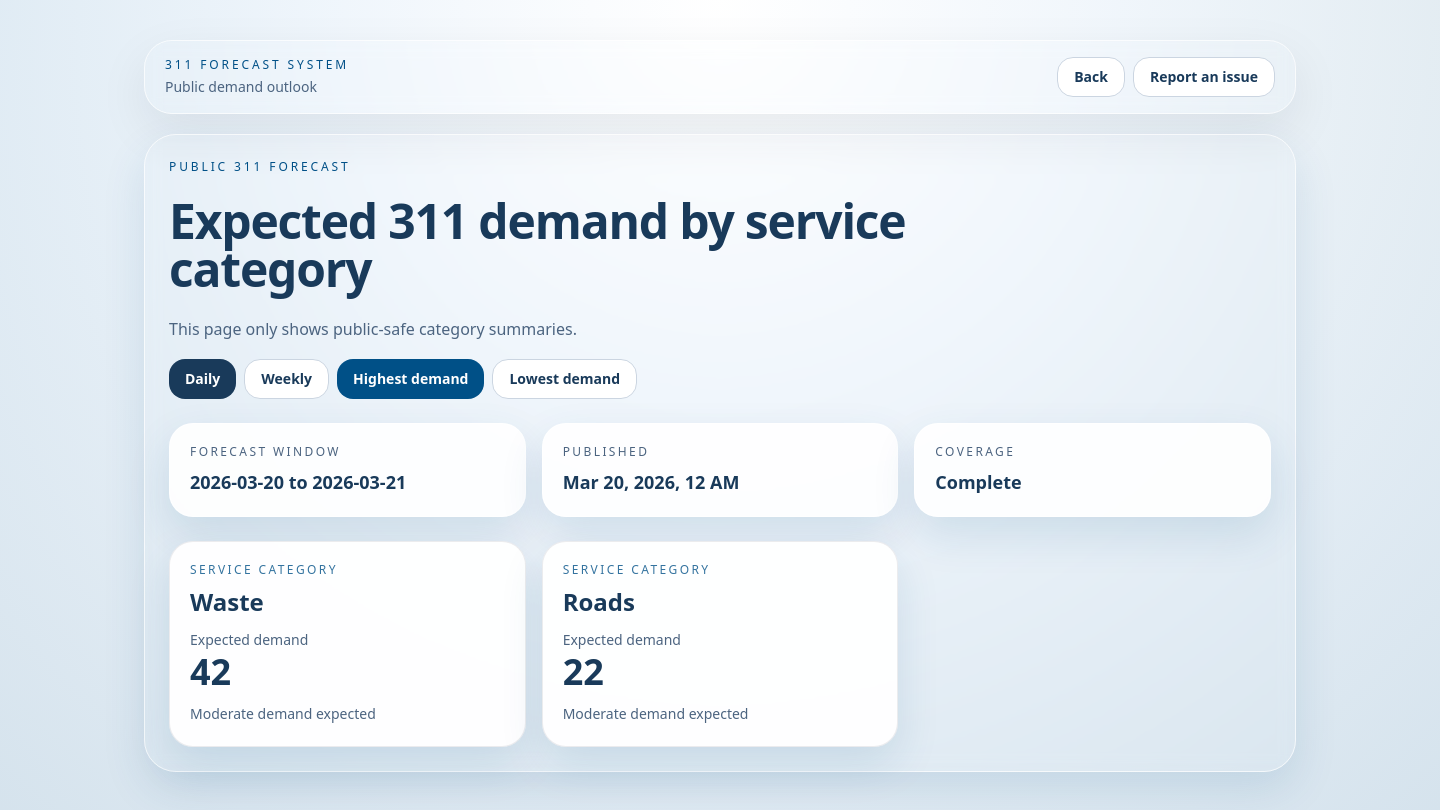
PublicForecastPage success › loads the public forecast and reports a rendered event
This screenshot has width=1440, height=810.
Expected: the heading "Expected 311 demand by service category" is shown, [169,188,906,301]
Expected: the navigation bar named "public navigation" is shown, [1057,57,1275,97]
Click the button "Lowest demand": (565, 379) [492,359,637,399]
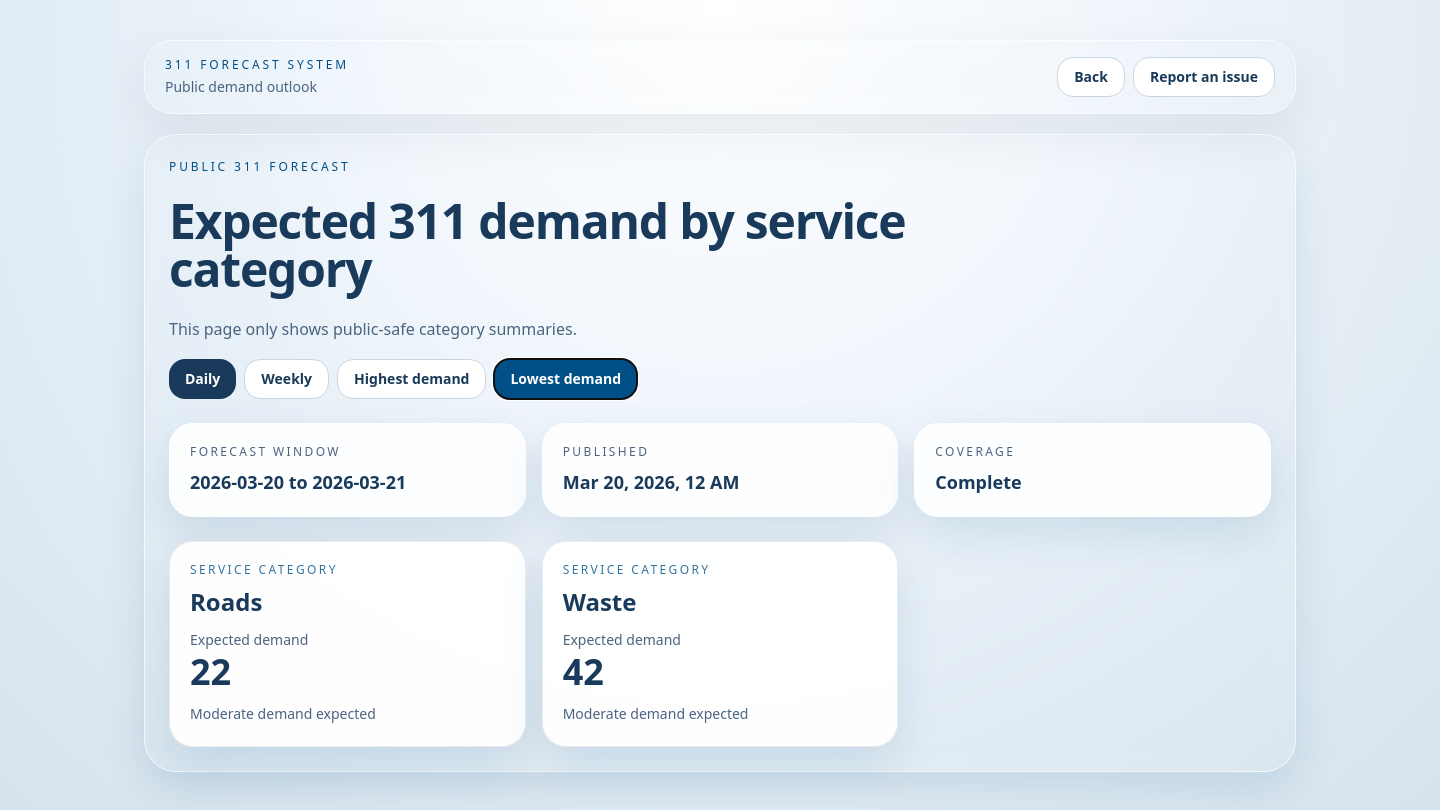
Result: the headings read "Roads", "Waste", in this order at [190,585,262,618]; [563,585,636,618]
Click the button "Weekly": (287, 379) [244,359,329,399]
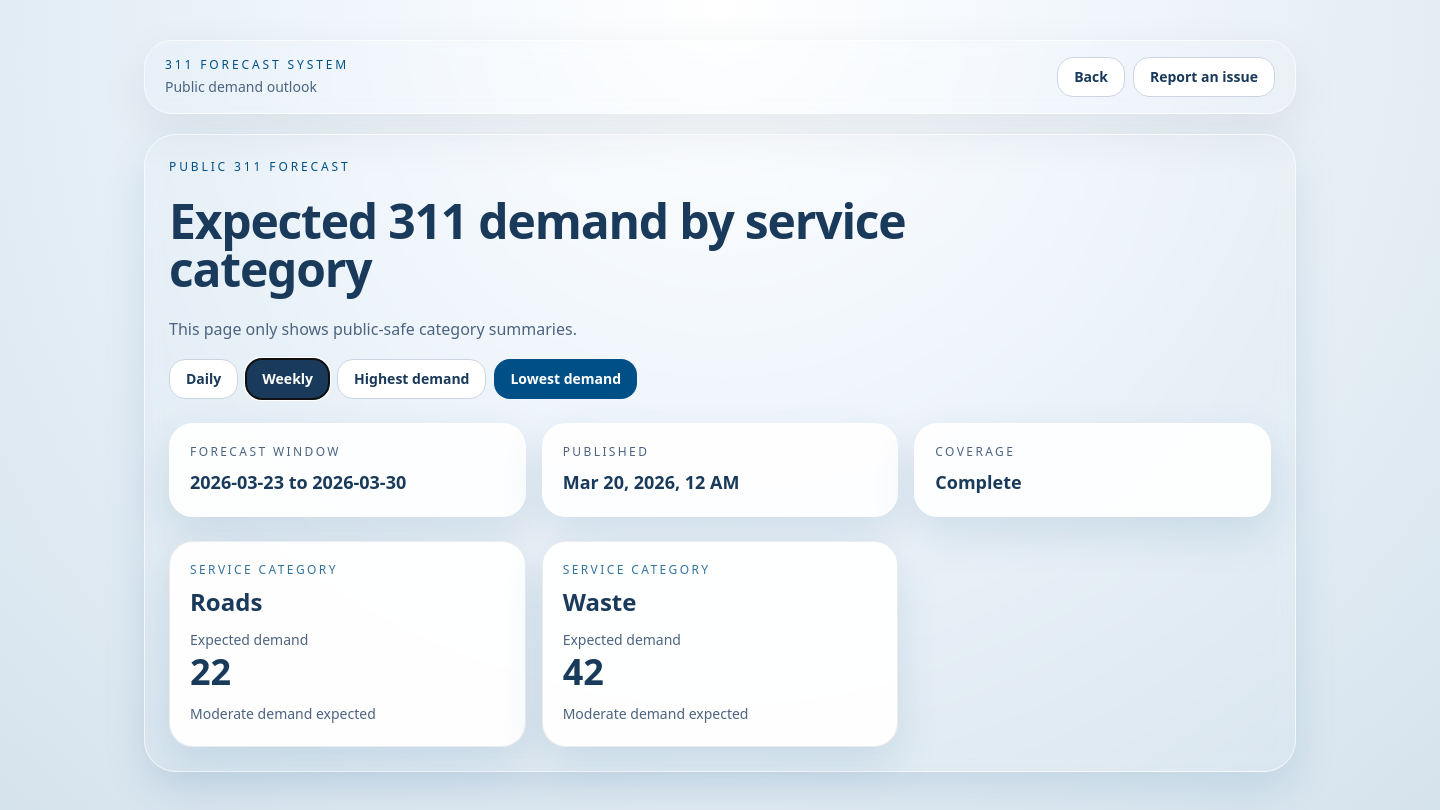
Result: the text "2026-03-23 to 2026-03-30" is shown at [190,470,406,494]
